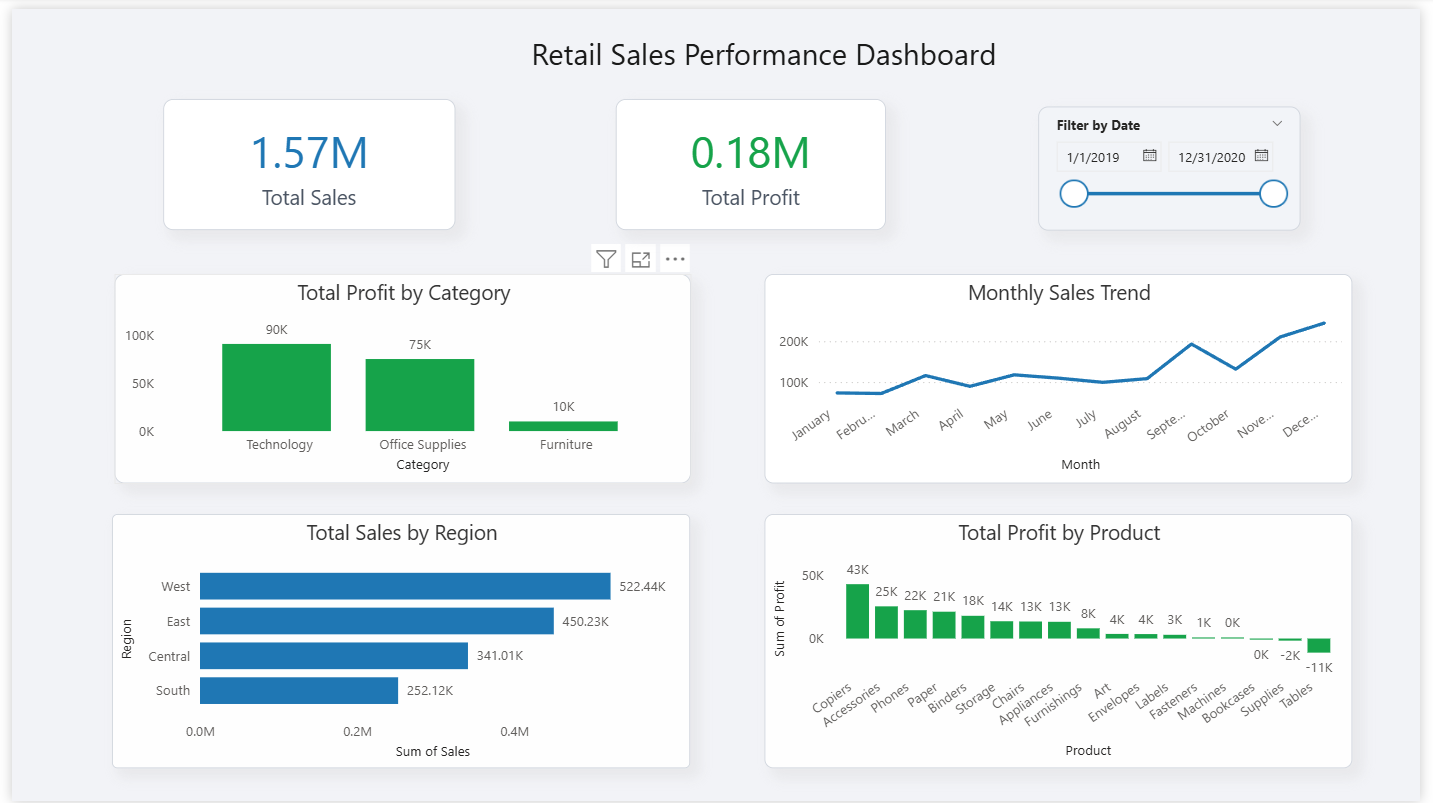

Layout of this report page (visuals, bound fields, positions):
{"tool":"powerbi","page":{"name":"Page 1","canvas":[1280,720],"ordinal":0},"visuals":[{"type":"clusteredColumnChart","title":"Total Profit by Category","fields":{"Category":["Sheet1.Category"],"Y":["Sum(Sheet1.Profit)"]},"box":[92.9,241.4,524.3,190],"z":0},{"type":"lineChart","title":"Monthly Sales Trend","fields":{"Y":["Sum(Sheet1.Sales)"],"Category":["Sheet1.Order Date.Variation.Date Hierarchy.Month"]},"box":[684.3,241.4,534.3,190],"z":1000},{"type":"columnChart","title":"Total Profit by Product","fields":{"Y":["Sum(Sheet1.Profit)"],"Category":["Sheet1.Sub-Category"]},"box":[684.3,458.6,534.3,231.4],"z":2000},{"type":"textbox","box":[405.9,0,555.9,70.6],"z":3000},{"type":"clusteredBarChart","title":"Total Sales by Region","fields":{"Category":["Sheet1.Region"],"Y":["Sum(Sheet1.Sales)"]},"box":[91.4,458.6,525.7,231.4],"z":4000},{"type":"card","fields":{"Values":["Sum(Sheet1.Sales)"]},"box":[137.5,81.9,265.3,119.4],"z":5000},{"type":"card","fields":{"Values":["Sum(Sheet1.Profit)"]},"box":[548.6,81.9,245.8,119.4],"z":6000},{"type":"slicer","fields":{"Values":["Sheet1.Order Date"]},"box":[932.9,88.6,238.6,112.9],"z":7000}]}

Visuals, with their boxes in screenshot pixels (x1, y1, x2, y2), scaled from the page's 1280x720 canvas onto the 1433x803 screenshot:
"Total Profit by Category" clusteredColumnChart: x1=104, y1=269, x2=691, y2=481
"Monthly Sales Trend" lineChart: x1=766, y1=269, x2=1364, y2=481
"Total Profit by Product" columnChart: x1=766, y1=511, x2=1364, y2=770
textbox: x1=454, y1=0, x2=1077, y2=79
"Total Sales by Region" clusteredBarChart: x1=102, y1=511, x2=691, y2=770
card - Sum(Sheet1.Sales): x1=154, y1=91, x2=451, y2=225
card - Sum(Sheet1.Profit): x1=614, y1=91, x2=889, y2=225
slicer - Sheet1.Order Date: x1=1044, y1=99, x2=1312, y2=225
